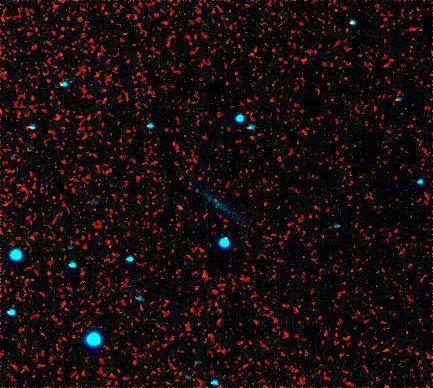star: (163, 194, 193, 224)
